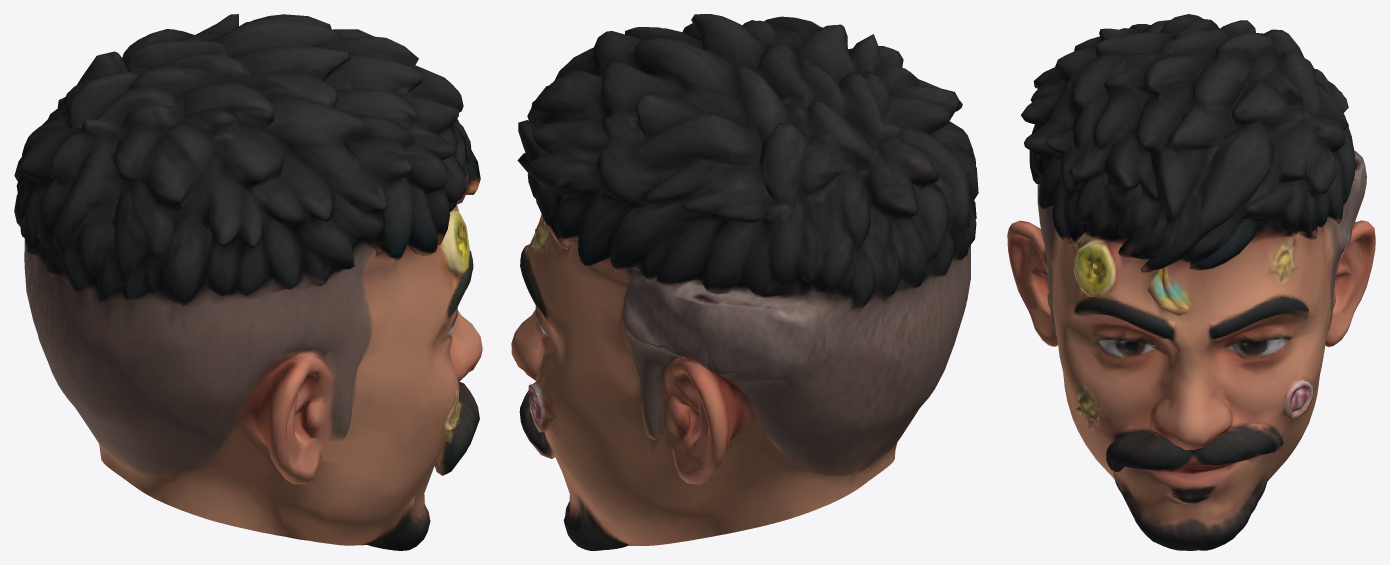
File: bubble-v1.glb
The picture shows the model from 3 angles, left to right: view 1: azimuth 30°, elevation 25°; view 2: azimuth 150°, elevation 25°; view 3: azimuth 270°, elevation 25°; orthographic projection. The views are drawn at different scales.
Visible parts, largest first — view 1: bubble-head; view 2: bubble-head; view 3: bubble-head.
Boxes of the visible parts, box(x1,y1,x2,y2) form: bubble-head: box(14, 14, 482, 550); bubble-head: box(511, 14, 978, 550); bubble-head: box(1007, 14, 1375, 550).
Size of the model in its own units: 0.2066 by 0.2378 by 0.18.
1 material, 1 textured.
